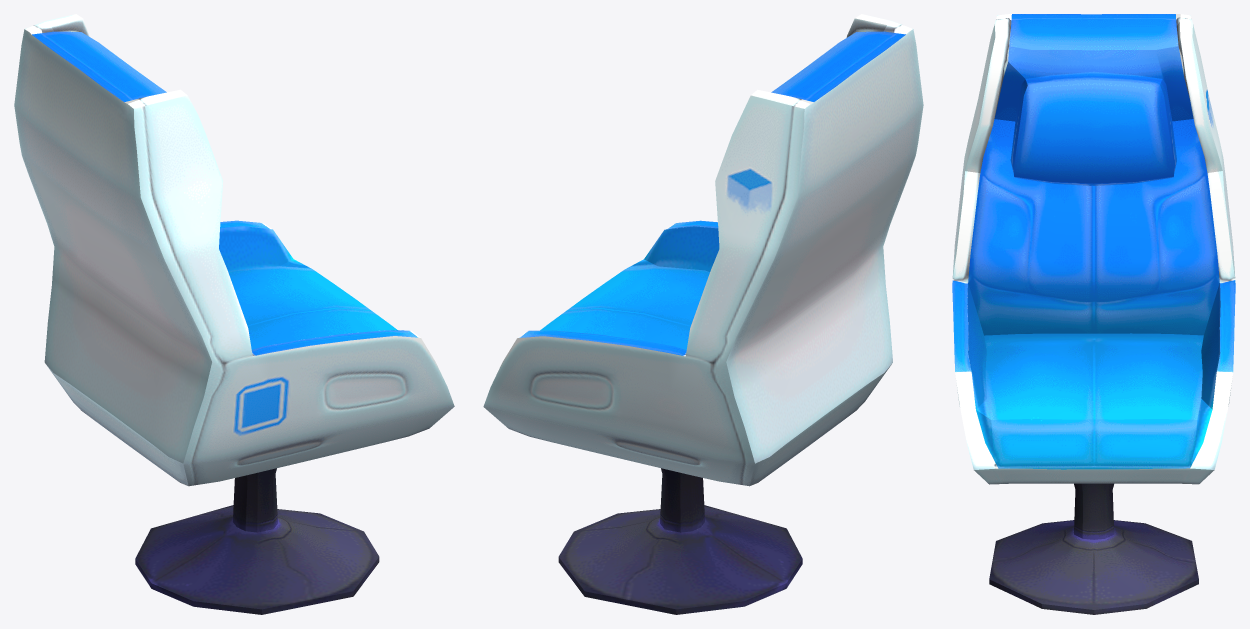
The model's file is obj_chair.gltf.
3 renders of one model, left to right at view 1: azimuth 30°, elevation 25°; view 2: azimuth 150°, elevation 25°; view 3: azimuth 270°, elevation 25°, orthographic. The views are drawn at different scales.
Parts seen in each view (by area): view 1: obj_chair; view 2: obj_chair; view 3: obj_chair.
Boxes of the visible parts, bbox=[...] form: obj_chair: bbox=[14, 14, 454, 614]; obj_chair: bbox=[483, 14, 923, 614]; obj_chair: bbox=[952, 14, 1235, 614].
Size of what is drawn, in the model's own units: 1.16 by 1.91 by 1.03.
1 material, 1 textured.
